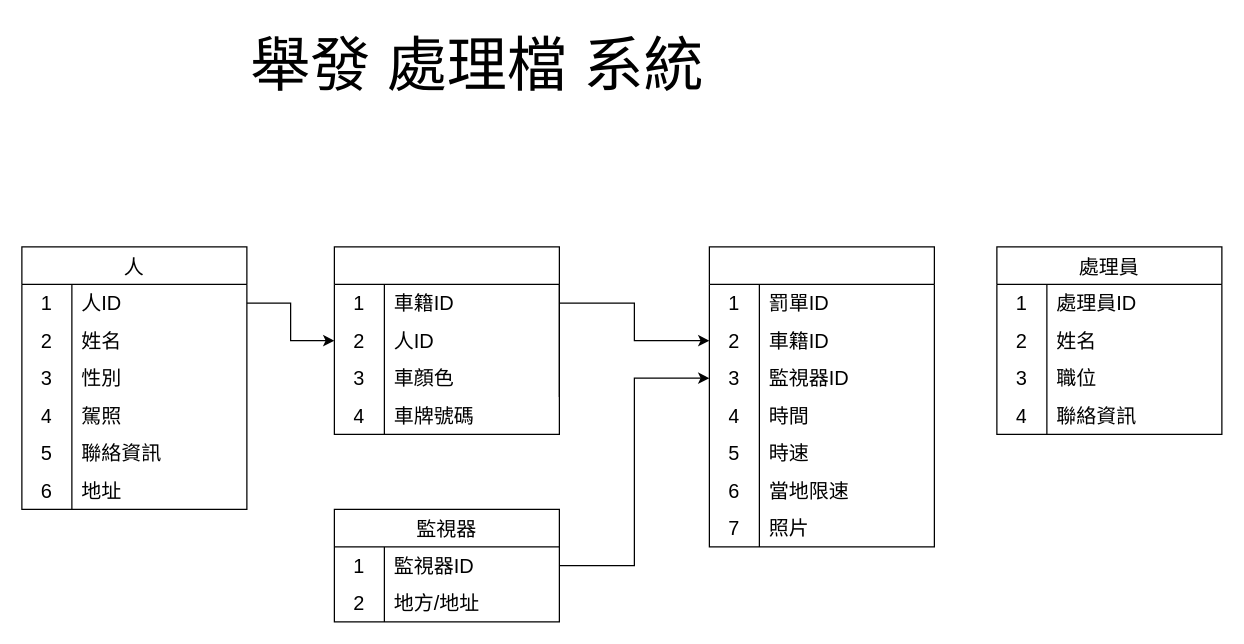
The diagram is 1244 pixels wide and 644 high, and some of its shapes have lost their labels. Each missing label, with the box of its shape:
罰單: (708, 246, 934, 547)
車籍: (333, 246, 559, 434)
